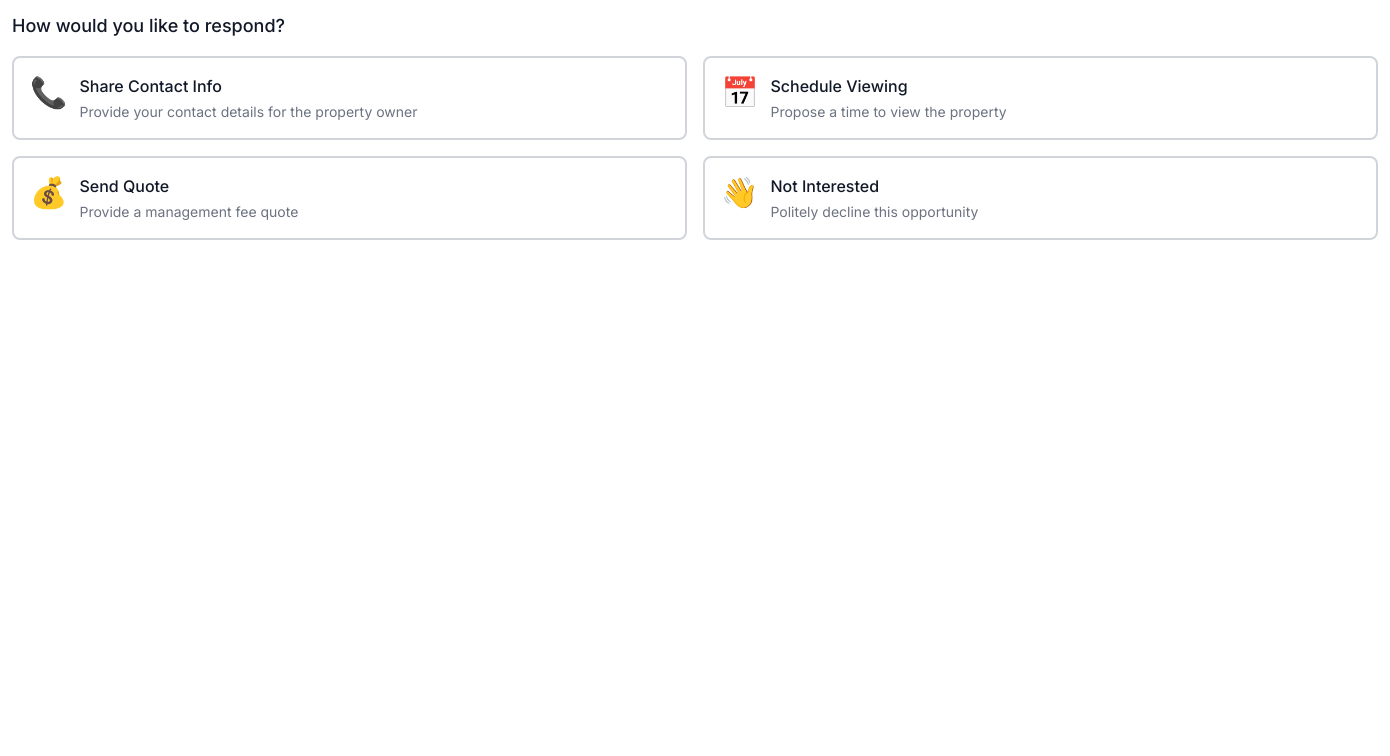
Scenario: Lead Response System › ResponseForm › should show price quote form when selected
Step 1. Click the button "💰 Send Quote Provide a management fee quote" → x=49, y=192, box [12, 156, 687, 240]
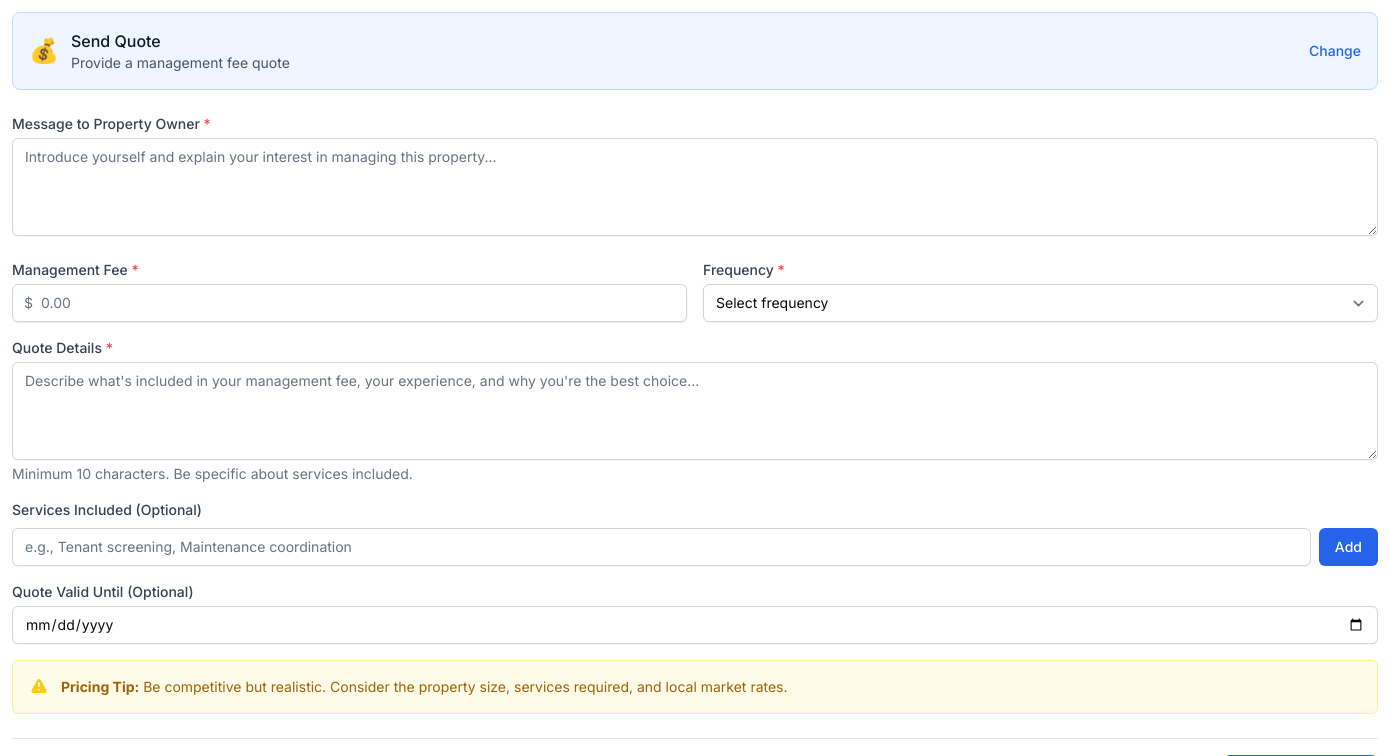
Check: the number field labelled "Management Fee *" is shown, box [12, 284, 687, 322]
Check: the dropdown labelled "Frequency *" is shown, box [703, 284, 1378, 322]
Check: the text box labelled "Quote Details *" is shown, box [12, 362, 1378, 460]
